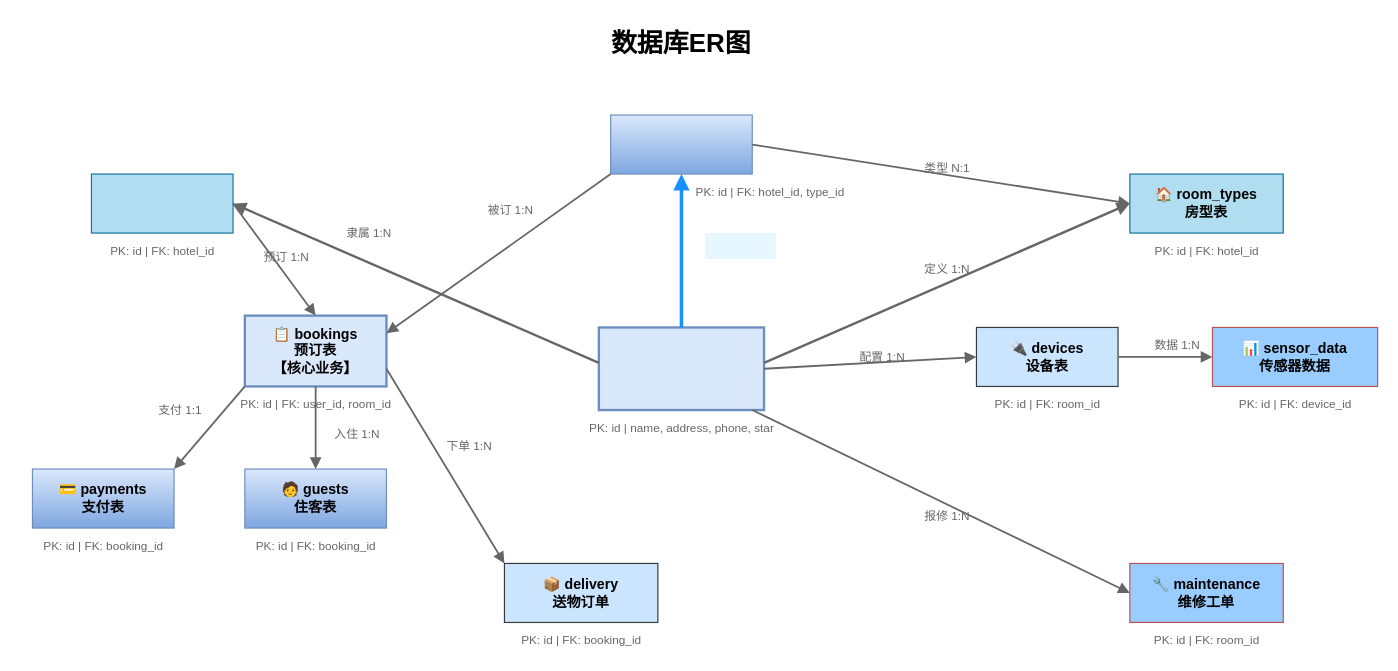
Image size: 1398x671. Some labels were removed from this diagram. Each missing label, with the centre of its shape:
"拥有 1:N" goes at (x=739, y=245).
"🏨 hotels 酒店表 【核心主体】" goes at (x=681, y=368).
"👤 users 用户表" goes at (x=161, y=203).
"🚪 rooms 房间表" goes at (x=680, y=144).
